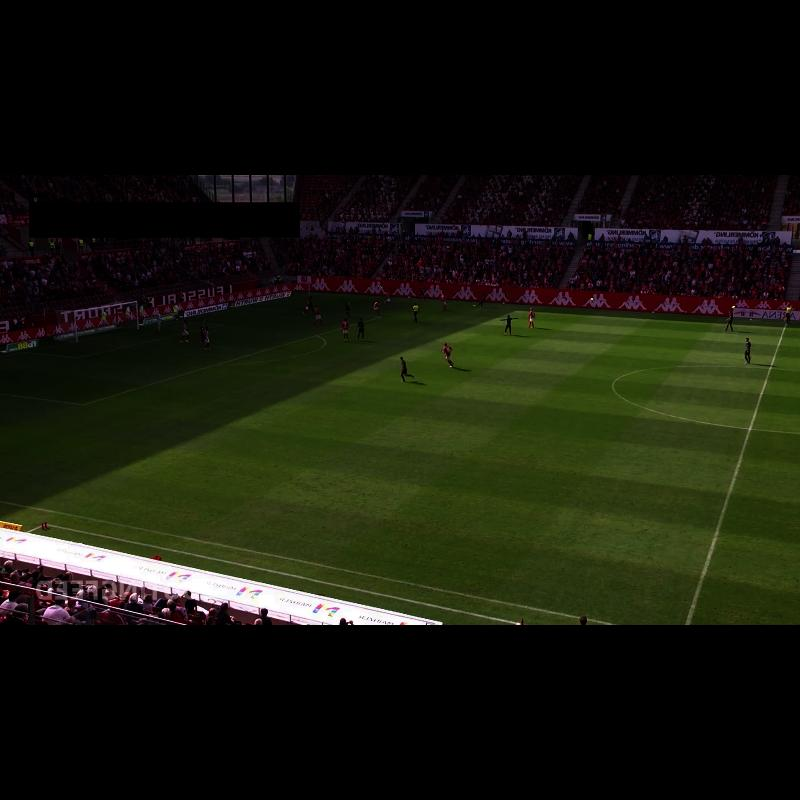cross_recipient_zone: (0, 307, 382, 404)
crossing_player_zone: (0, 391, 209, 505), (248, 294, 512, 322)
pitch: (0, 294, 800, 625)
